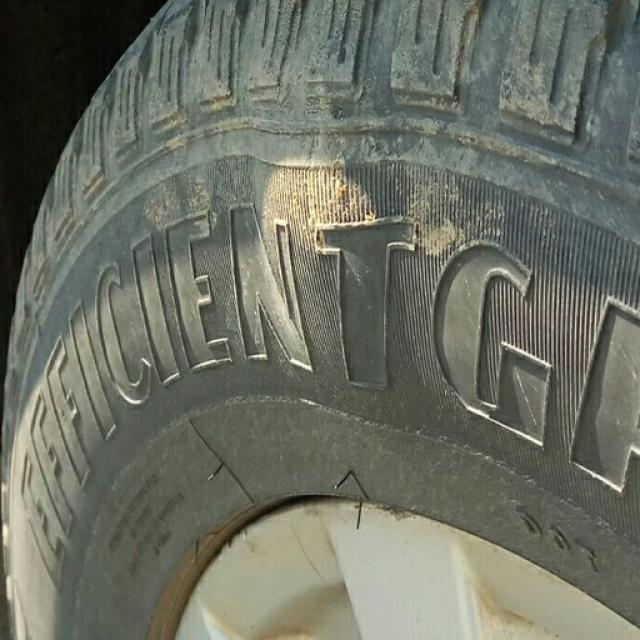Bulge: (230, 125, 420, 416)
